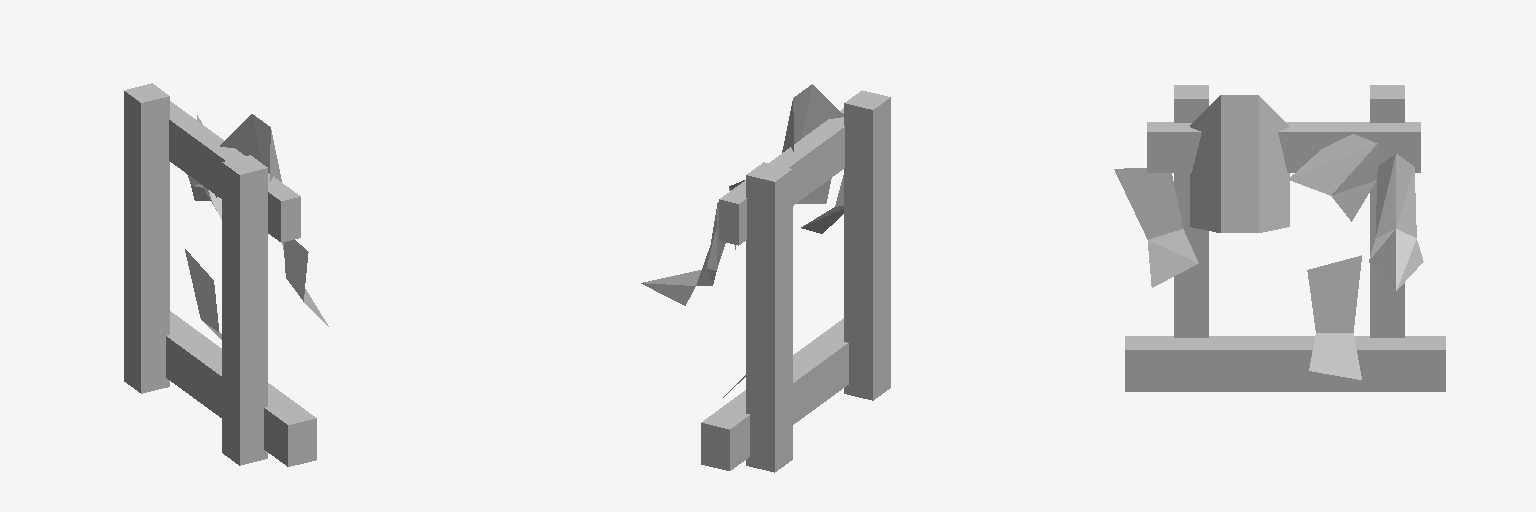
Rendered from armorStand.obj.
3 renders of one model, left to right at view 1: azimuth 30°, elevation 25°; view 2: azimuth 150°, elevation 25°; view 3: azimuth 270°, elevation 25°, orthographic.
Visible parts, largest first — view 1: ArmorRack.001; view 2: ArmorRack.001; view 3: ArmorRack.001.
Boxes of the visible parts, box(x1,y1,x2,y2) form: ArmorRack.001: box(124, 83, 328, 466); ArmorRack.001: box(641, 84, 890, 472); ArmorRack.001: box(1114, 85, 1445, 391).
Size of the model in its own units: 0.9668 by 2.04 by 2.